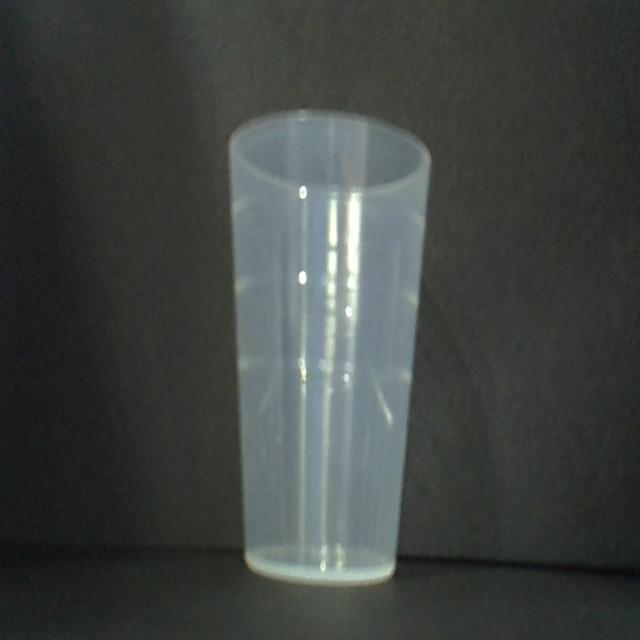cup: (226, 110, 433, 584)
